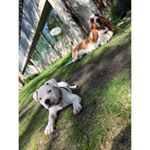puppy: (30, 75, 86, 140), (60, 11, 119, 71)
